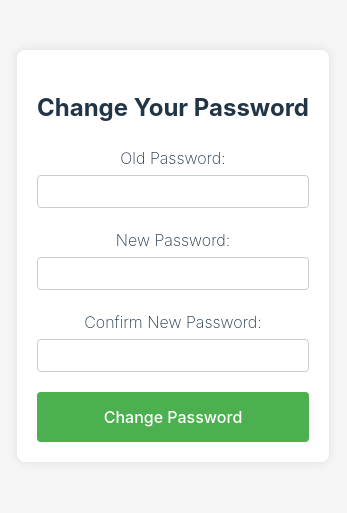
Test: AccountSettings › shows an error message on failed password update
Type "oldpass" into the password field with test id "oldPassword".
click(173, 192); type("oldpass")  # box x1=37 y1=175 x2=309 y2=208
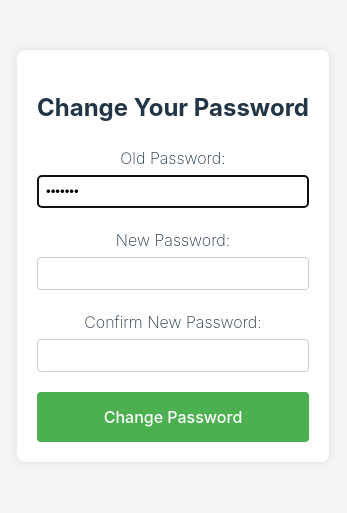
Type "newpass" into the password field with test id "newPassword".
click(173, 274); type("newpass")  # box x1=37 y1=257 x2=309 y2=290
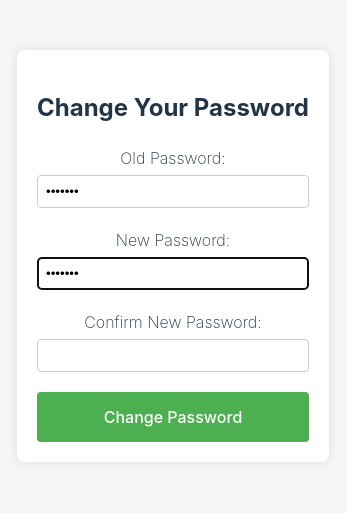
Type "newpass" into the password field with test id "confirmPassword".
click(173, 356); type("newpass")  # box x1=37 y1=339 x2=309 y2=372
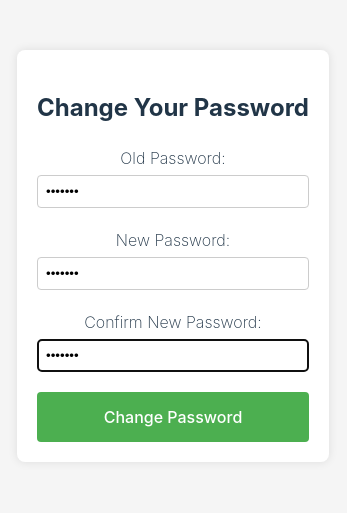
Click the button "Change Password".
click(173, 417)  # box x1=37 y1=392 x2=309 y2=442
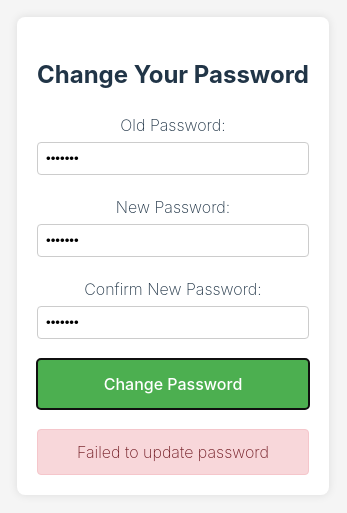
Expected: the text "Failed to update password" is shown, x1=37 y1=429 x2=309 y2=475
